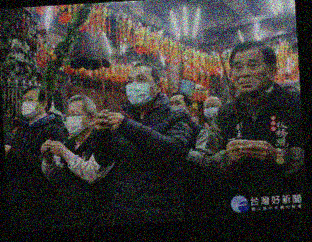with_mask: (125, 71, 158, 106), (64, 107, 90, 135), (19, 94, 44, 119), (203, 101, 220, 119)
without_mask: (231, 56, 274, 94)
